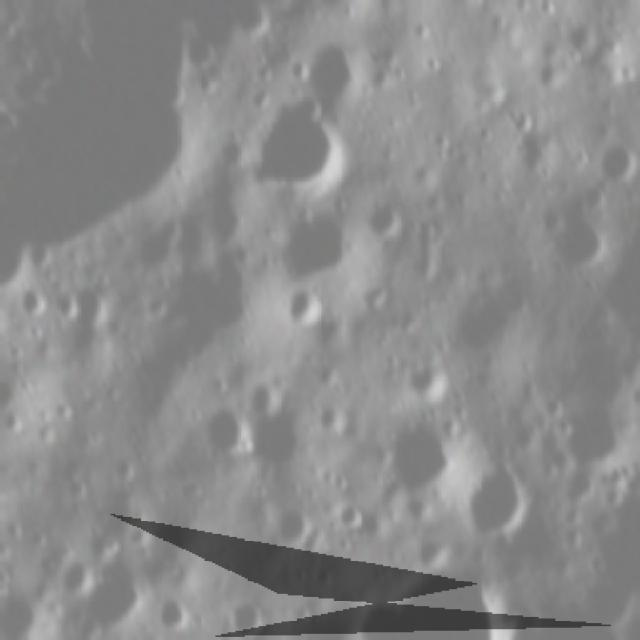crater: (234, 100, 344, 191), (262, 206, 356, 282), (449, 275, 534, 356), (374, 418, 454, 497), (284, 30, 364, 108), (461, 454, 532, 537), (74, 554, 143, 631), (561, 399, 624, 479), (554, 208, 612, 272), (126, 210, 182, 273), (193, 402, 253, 455), (248, 365, 302, 413), (399, 353, 448, 404), (74, 272, 114, 331), (276, 287, 327, 330), (179, 33, 224, 78), (270, 502, 318, 544), (597, 136, 637, 184), (223, 598, 279, 631), (55, 550, 93, 596), (564, 12, 602, 58), (362, 194, 401, 235), (155, 588, 191, 632), (20, 276, 54, 318), (228, 2, 268, 35), (335, 499, 371, 533), (413, 536, 447, 572), (500, 103, 537, 131), (110, 454, 135, 483)
